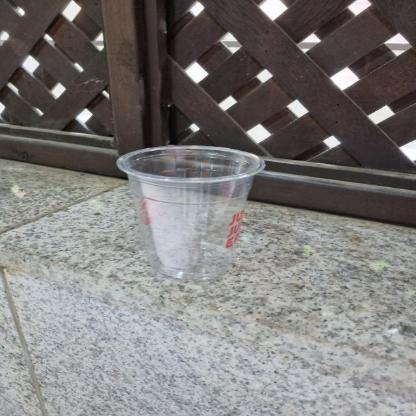Plastic Cup: (119, 145, 265, 283)
